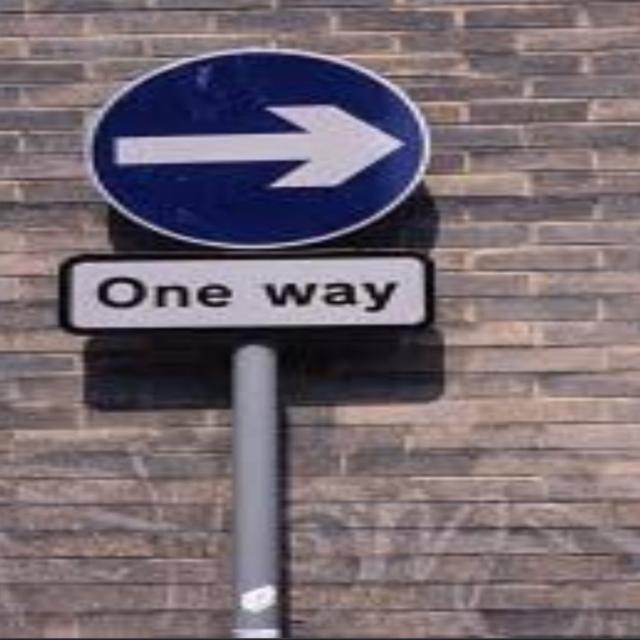Turn Right: (89, 42, 442, 252)
